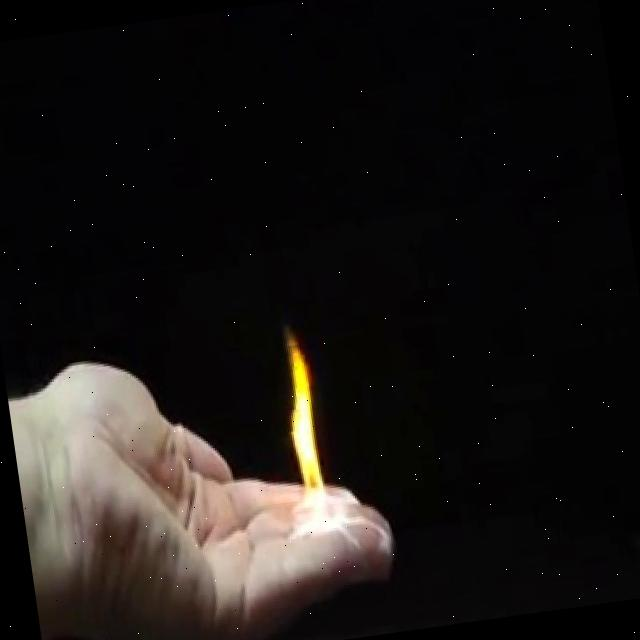fire: (282, 422, 334, 544)
